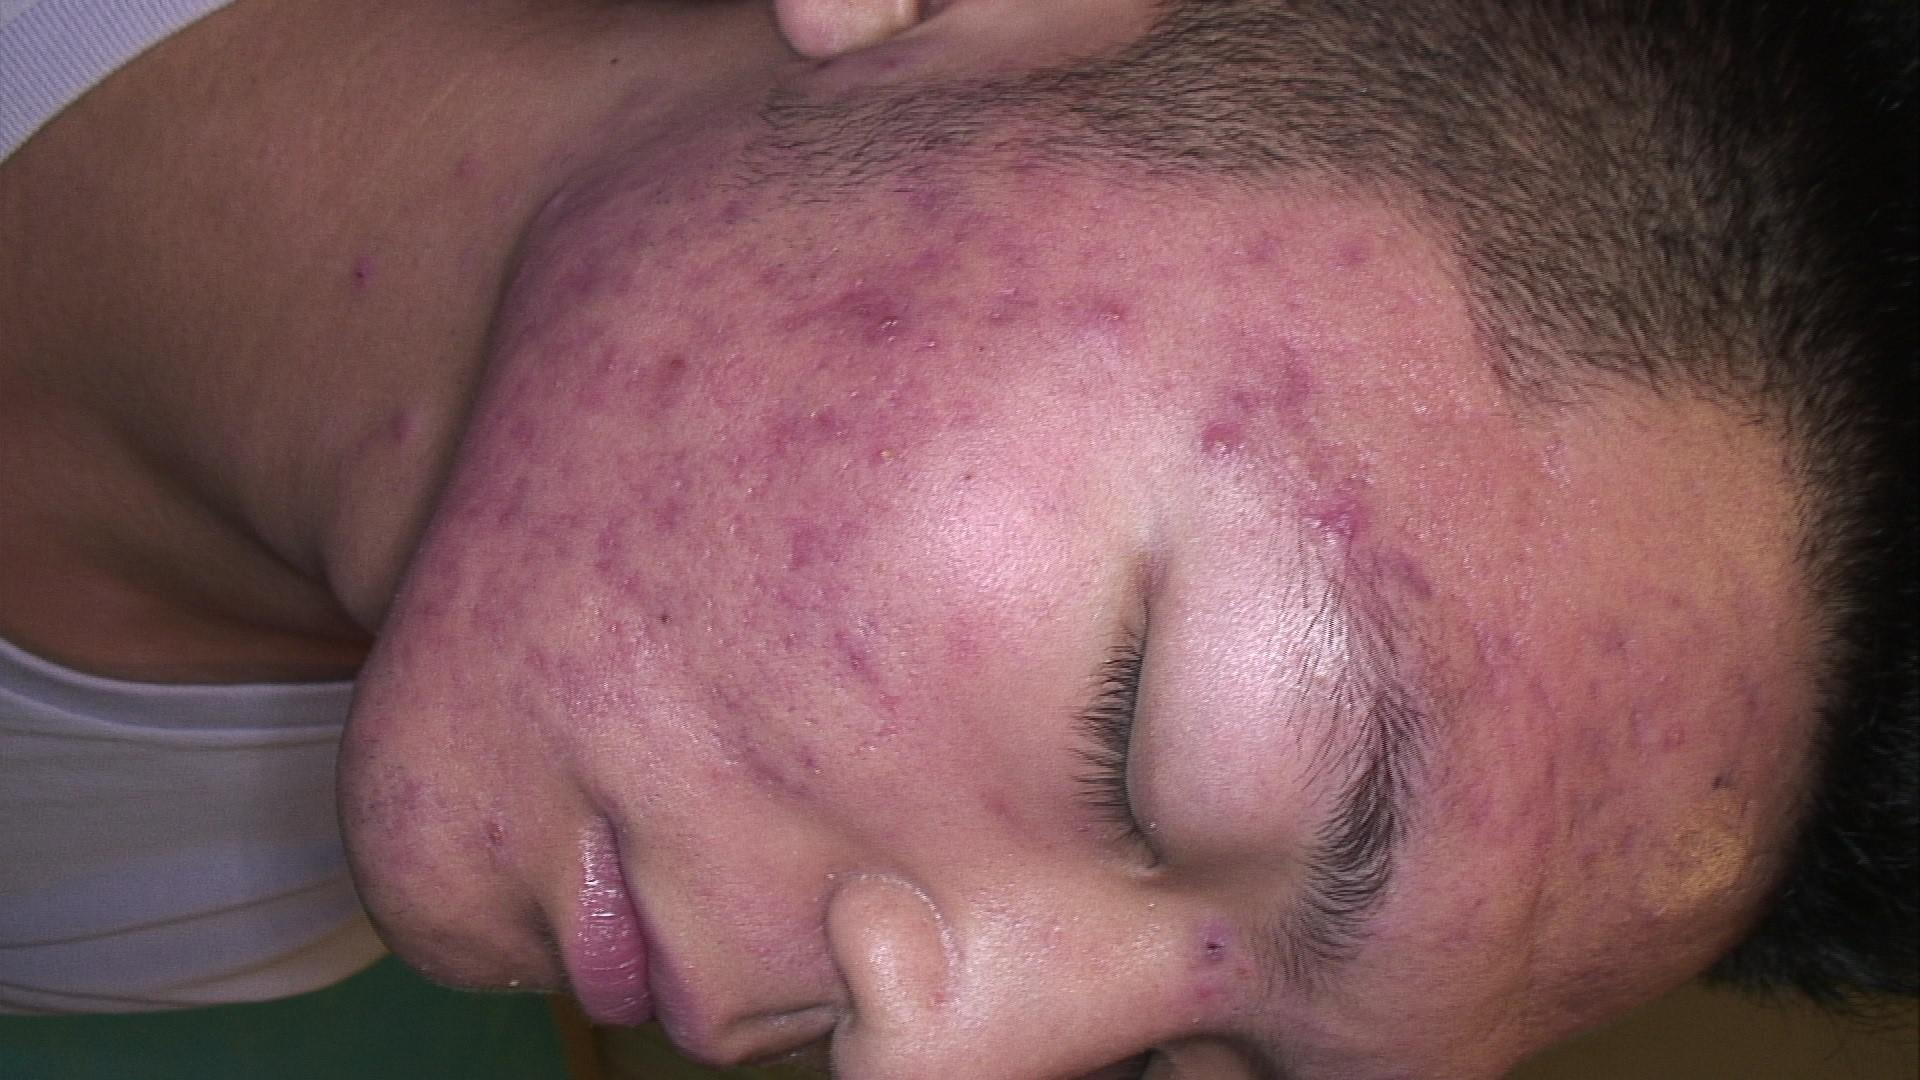fore: (785, 258, 899, 363), (860, 274, 951, 363), (398, 547, 483, 636), (463, 585, 556, 665), (1184, 381, 1262, 472), (967, 274, 1044, 365), (1097, 261, 1164, 363), (564, 326, 645, 410), (629, 446, 717, 514), (1135, 914, 1230, 976), (1386, 531, 1464, 603), (749, 505, 822, 579), (1246, 326, 1324, 394), (829, 618, 913, 680), (642, 323, 709, 397), (1321, 475, 1389, 547), (789, 394, 869, 454), (463, 796, 525, 872), (487, 397, 554, 465), (583, 527, 647, 596), (1586, 609, 1648, 674), (564, 248, 618, 319), (909, 219, 967, 284), (460, 456, 518, 521), (1311, 225, 1375, 274), (1455, 612, 1513, 661)
